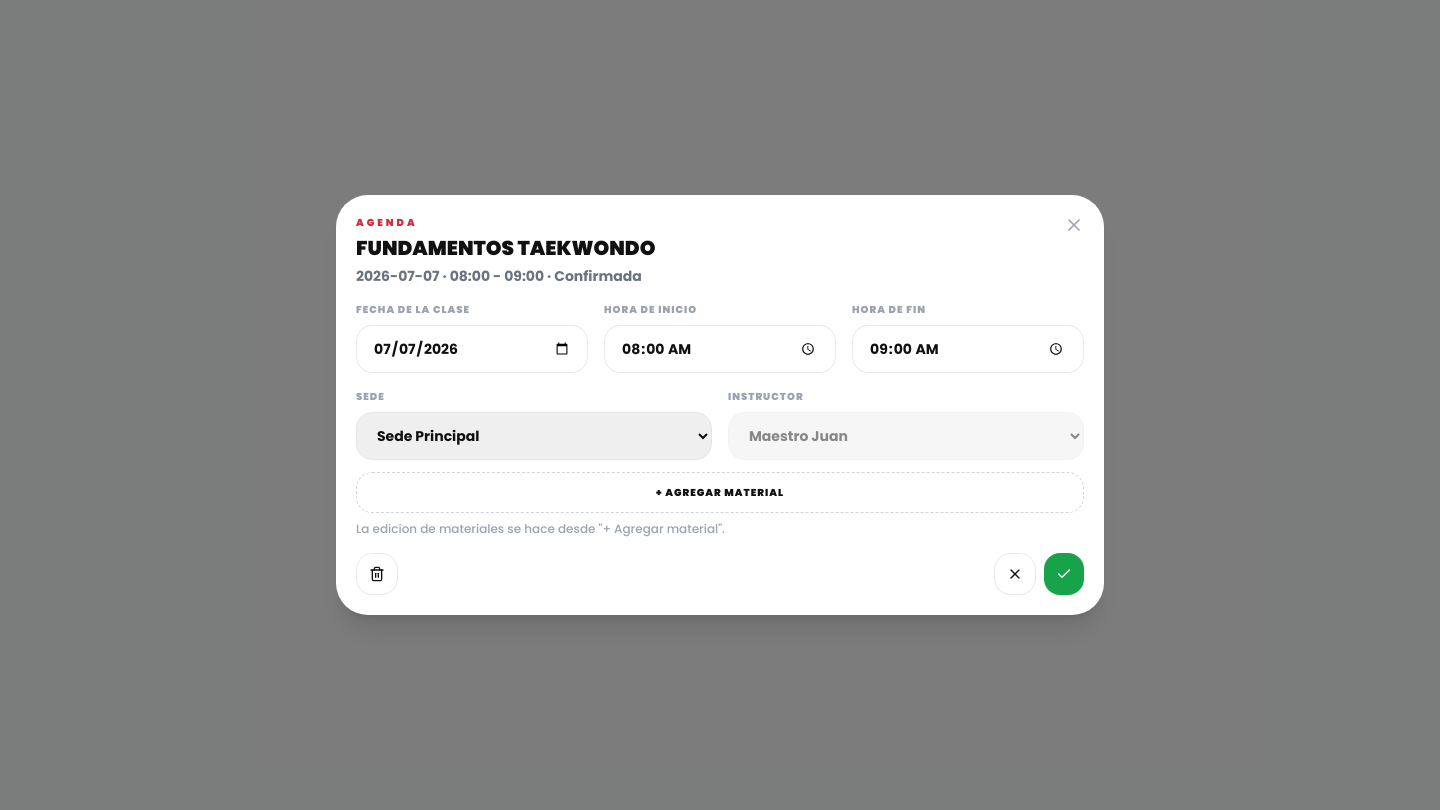
it: ModalEdicionJornada › no permite guardar si la hora de inicio no es anterior a la hora de fin (bloquea antes de chequear conflicto)
The image size is (1440, 810).
Replace the text in the time field labelled "Hora de inicio" with "09:00": {"x": 720, "y": 349} [604,325,836,373]
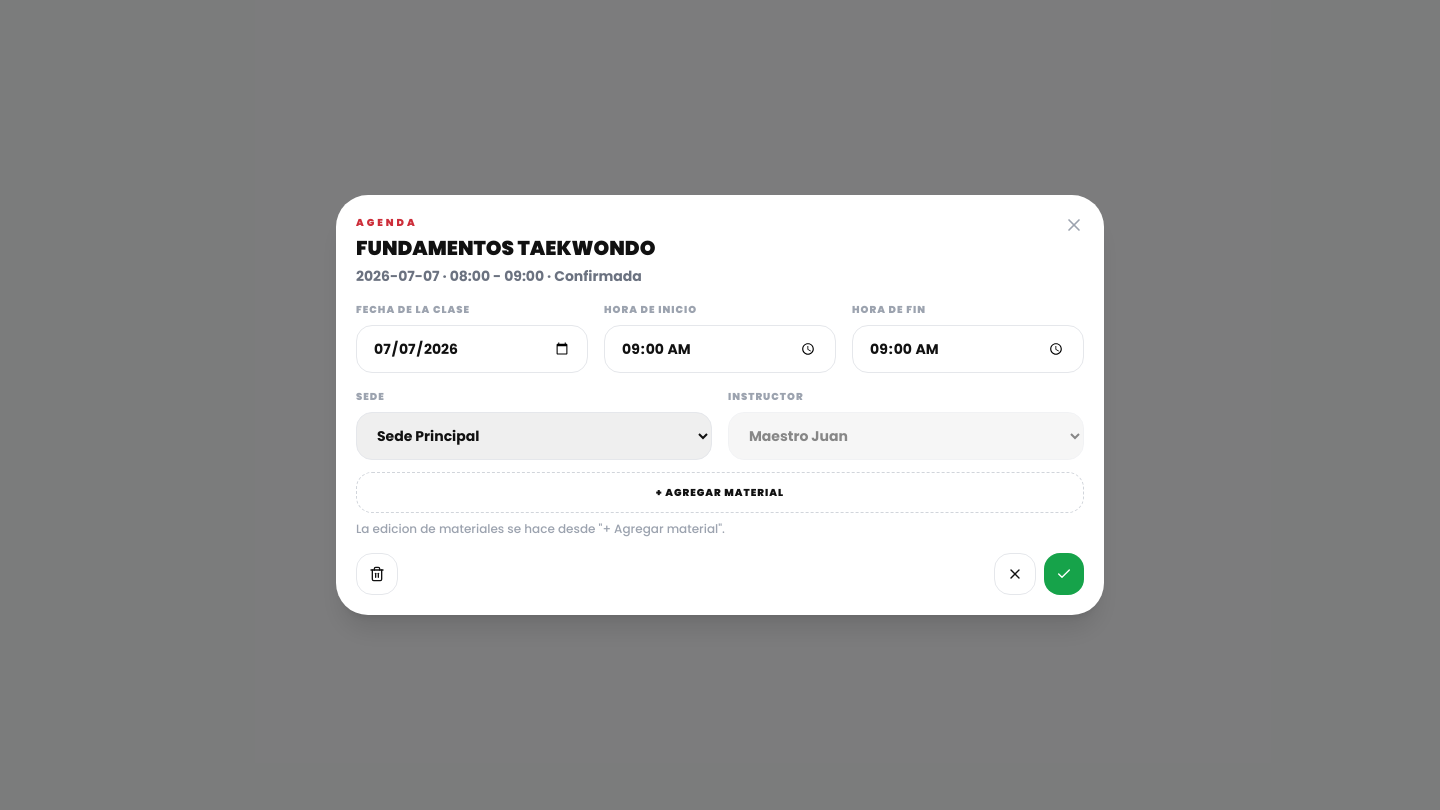
Click the button named "guardar cambios": {"x": 1064, "y": 574} [1044,553,1084,595]
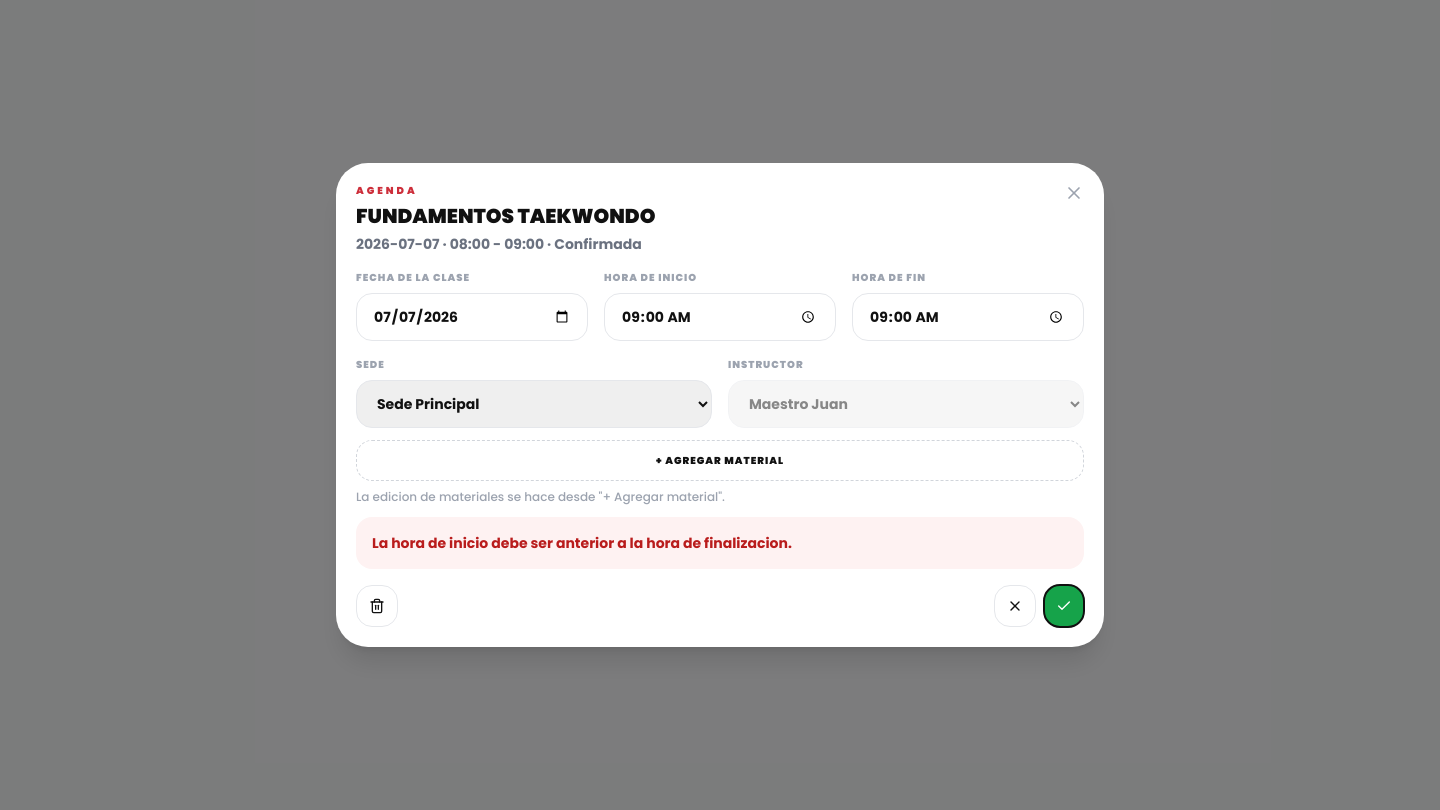
Expected: the text "La hora de inicio debe ser anterior a la hora de finalizacion" is shown, [372,533,792,553]
